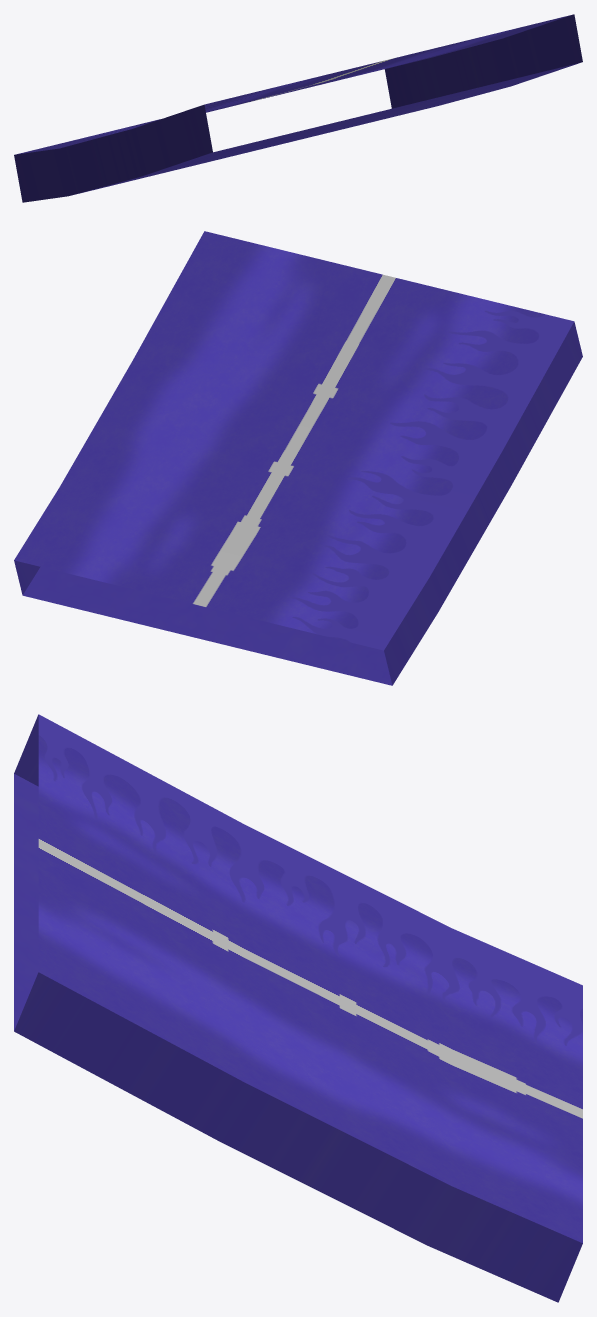
File: PV_Bigramp.fbx
3 views of the same model, one above another, from view 1: azimuth 30°, elevation 25°; view 2: azimuth 150°, elevation 25°; view 3: azimuth 270°, elevation 25° (orthographic). The views are drawn at different scales.
Visible parts, largest first — view 1: scale1; view 2: scale1; view 3: scale1.
Part boxes in pixels (box(x1,y1,x2,y2)): scale1: box(14, 14, 582, 202); scale1: box(14, 231, 582, 685); scale1: box(14, 714, 582, 1302).
Size of the model in its own units: 2379 by 1422 by 2218.
